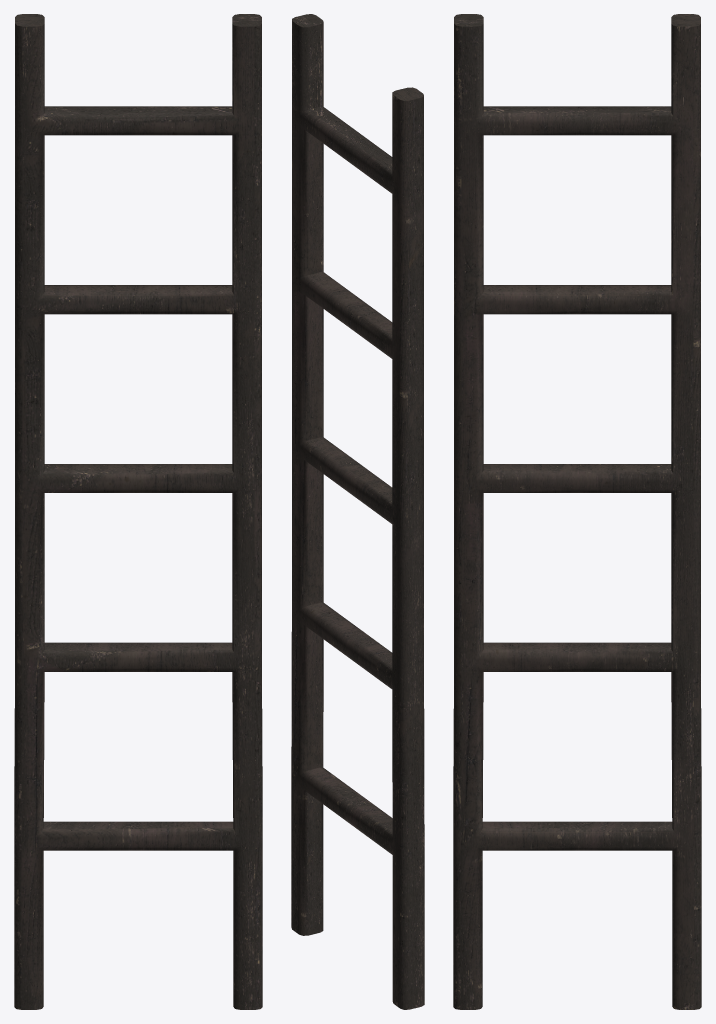
File: Ladder_01_SM.fbx
3 renders of one model, left to right at view 1: azimuth 90°, elevation 25°; view 2: azimuth 210°, elevation 25°; view 3: azimuth 270°, elevation 25°, orthographic. The views are drawn at different scales.
Visible parts, largest first — view 1: Plane; view 2: Plane; view 3: Plane.
Boxes of the visible parts, left/top/right/bottom form: Plane: left=14, top=14, right=262, bottom=1009; Plane: left=291, top=14, right=424, bottom=1009; Plane: left=453, top=14, right=701, bottom=1009.
Bounding box in the file's own units: 6 × 220 × 50.41.
